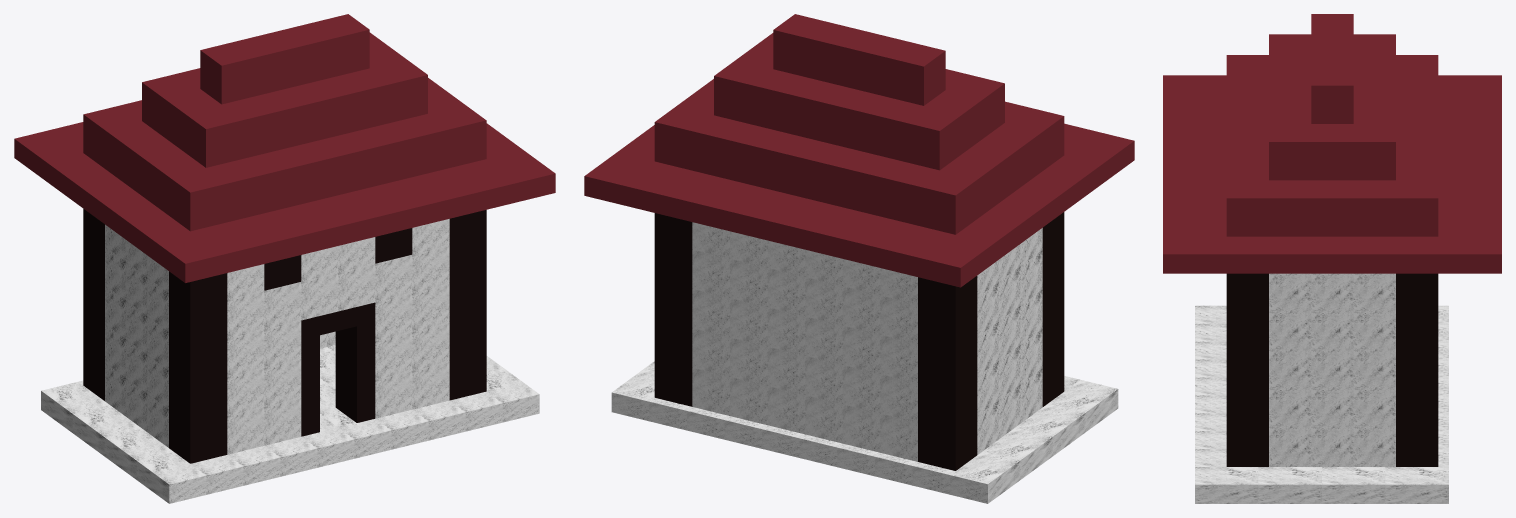
Rendered from Concrete building_03.fbx.
The picture shows the model from 3 angles, left to right: view 1: azimuth 30°, elevation 25°; view 2: azimuth 150°, elevation 25°; view 3: azimuth 270°, elevation 25°; orthographic projection. The views are drawn at different scales.
Parts seen in each view (by area): view 1: Window_block60, Window_block75, Window_block74, Concrete_block496, Concrete_block590, Concrete_block603, Concrete_block505, Concrete_block507, Concrete_block514, Concrete_block506, Window_block50, Window_block55 (+97 smaller); view 2: Window_block75, Window_block72, Window_block64, Concrete_block563, Concrete_block591, Concrete_block603, Concrete_block574, Concrete_block573, Concrete_block572, Concrete_block571, Window_block66, Window_block54 (+97 smaller); view 3: Concrete_block601, Window_block76, Window_block54, Window_block53, Window_block52, Window_block51, Window_block50, Window_block70, Window_block71, Window_block69, Concrete_block598, Concrete_block583 (+85 smaller).
Boxes of the visible parts, bbox=[...] form: Window_block60: bbox=[169, 168, 227, 231]; Window_block75: bbox=[200, 41, 258, 104]; Window_block74: bbox=[184, 104, 242, 167]; Concrete_block496: bbox=[137, 452, 206, 503]; Concrete_block590: bbox=[153, 231, 222, 282]; Concrete_block603: bbox=[78, 176, 157, 235]; Concrete_block505: bbox=[169, 293, 227, 347]; Concrete_block507: bbox=[169, 371, 227, 424]; Concrete_block514: bbox=[169, 410, 227, 463]; Concrete_block506: bbox=[169, 332, 227, 386]; Window_block50: bbox=[428, 105, 486, 167]; Window_block55: bbox=[206, 159, 264, 222]; Window_block75: bbox=[886, 41, 945, 105]; Window_block72: bbox=[902, 106, 961, 170]; Window_block64: bbox=[918, 170, 977, 234]; Concrete_block563: bbox=[950, 451, 1020, 503]; Concrete_block591: bbox=[923, 235, 993, 287]; Concrete_block603: bbox=[989, 179, 1069, 239]; Concrete_block574: bbox=[918, 298, 977, 352]; Concrete_block573: bbox=[918, 337, 977, 392]; Concrete_block572: bbox=[918, 377, 977, 431]; Concrete_block571: bbox=[918, 416, 977, 470]; Window_block66: bbox=[751, 69, 810, 133]; Window_block54: bbox=[654, 106, 713, 170]; Concrete_block601: bbox=[1290, 236, 1374, 273]; Window_block76: bbox=[1311, 67, 1353, 123]; Window_block54: bbox=[1396, 180, 1438, 236]; Window_block53: bbox=[1353, 180, 1395, 236]; Window_block52: bbox=[1311, 180, 1353, 236]; Window_block51: bbox=[1269, 180, 1311, 236]; Window_block50: bbox=[1226, 180, 1268, 236]; Window_block70: bbox=[1311, 124, 1353, 180]; Window_block71: bbox=[1269, 124, 1311, 180]; Window_block69: bbox=[1353, 124, 1395, 180]; Concrete_block598: bbox=[1438, 236, 1501, 273]; Concrete_block583: bbox=[1163, 236, 1226, 273].
Bounding box in the file's own units: 10 × 9.5 × 8.
